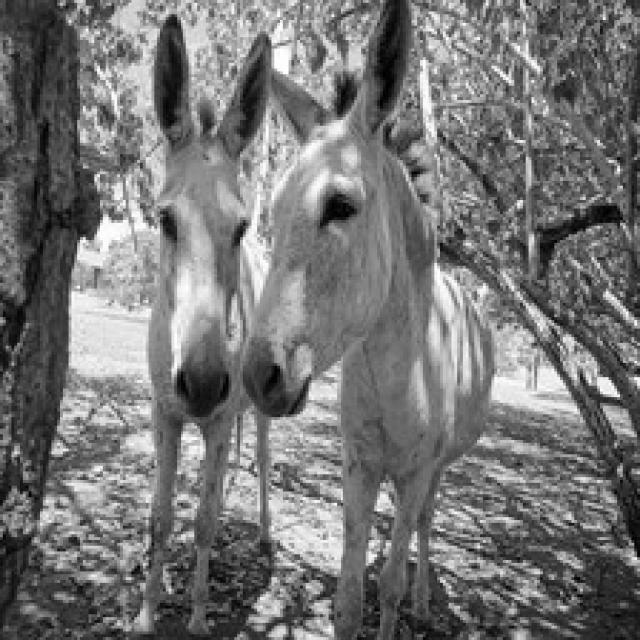Donkey: (240, 0, 494, 637), (126, 12, 271, 637)
